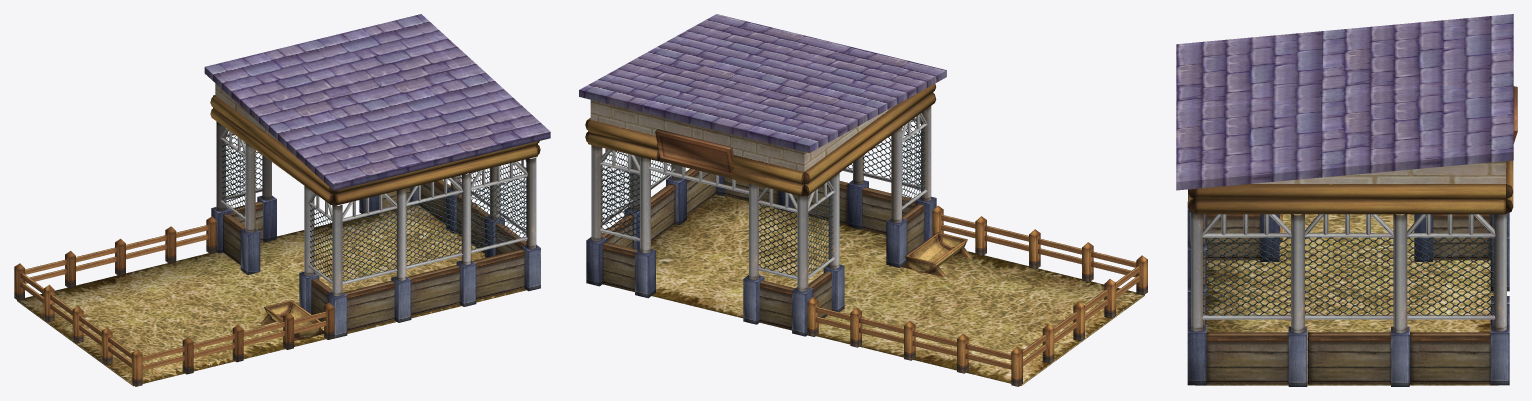
File: a_SEcage01.glb
The picture shows the model from 3 angles, left to right: view 1: azimuth 30°, elevation 25°; view 2: azimuth 150°, elevation 25°; view 3: azimuth 270°, elevation 25°; orthographic projection. The views are drawn at different scales.
Visible parts, largest first — view 1: a_SEcage01; view 2: a_SEcage01; view 3: a_SEcage01.
Boxes of the visible parts, <box> form: a_SEcage01: <box>14,14,550,386</box>; a_SEcage01: <box>579,14,1147,386</box>; a_SEcage01: <box>1176,14,1517,386</box>.
Bounding box in the file's own units: 8.16 × 3.54 × 4.51.
Materials: 6 (6 with a texture image).
